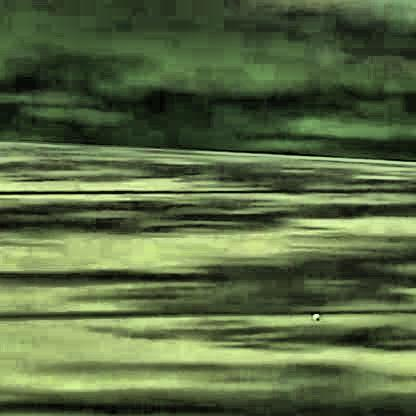golfball: (308, 309, 319, 319)
